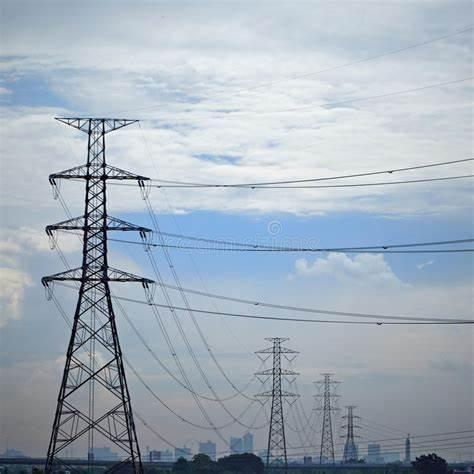power_tower: (31, 114, 157, 474), (247, 332, 312, 465), (310, 368, 341, 465), (340, 396, 361, 471)
